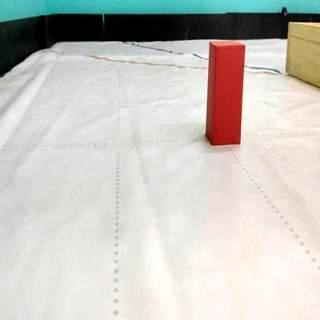redbox: (206, 41, 246, 146)
